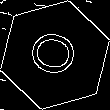O_E: (25, 28, 85, 82)
